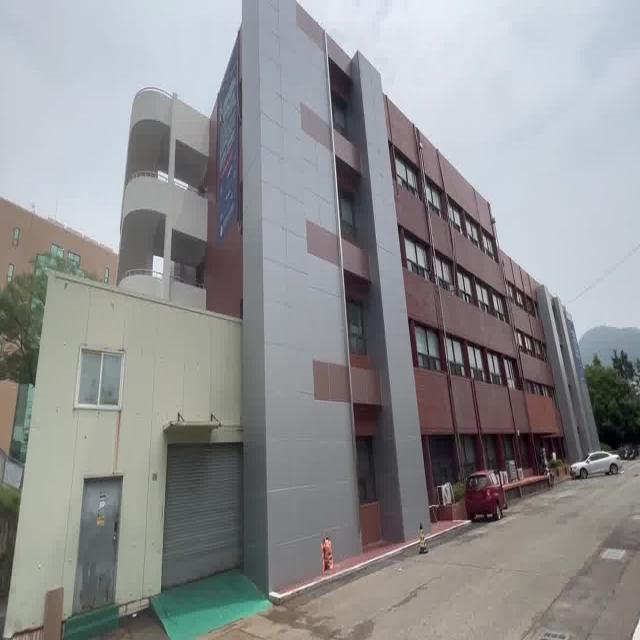building: (102, 28, 514, 448)
